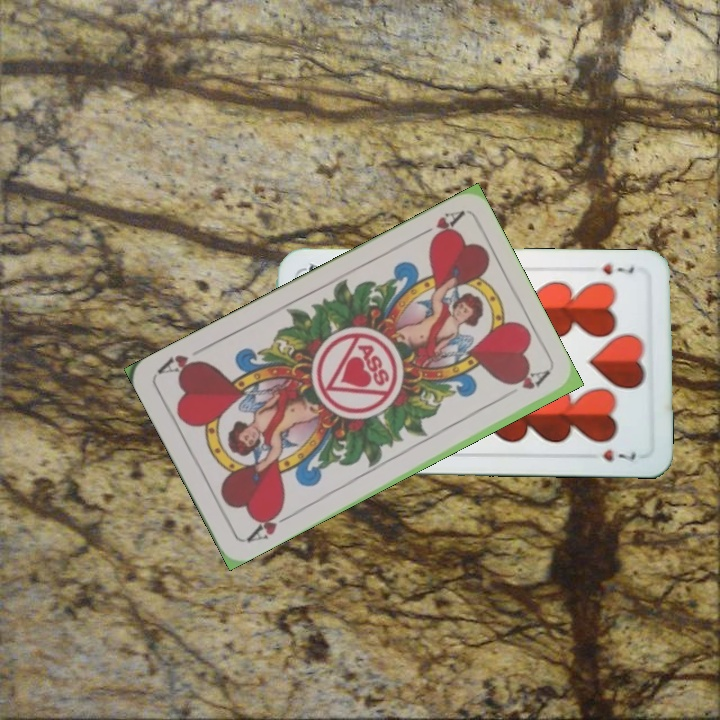H7: (599, 259, 637, 277)
HA: (242, 503, 295, 545), (410, 207, 465, 246)
